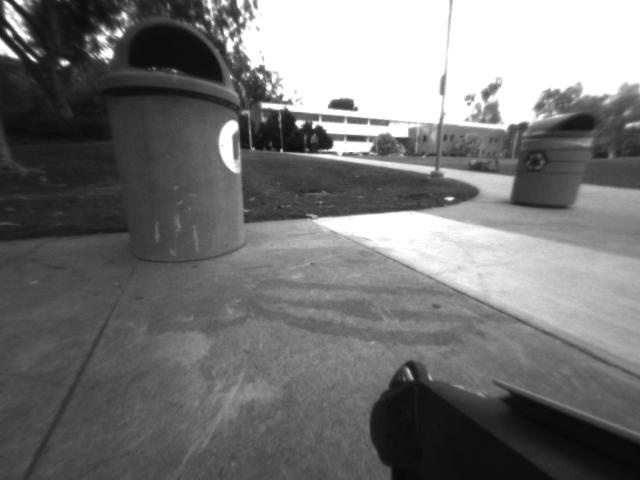trashcan: (90, 16, 255, 279)
